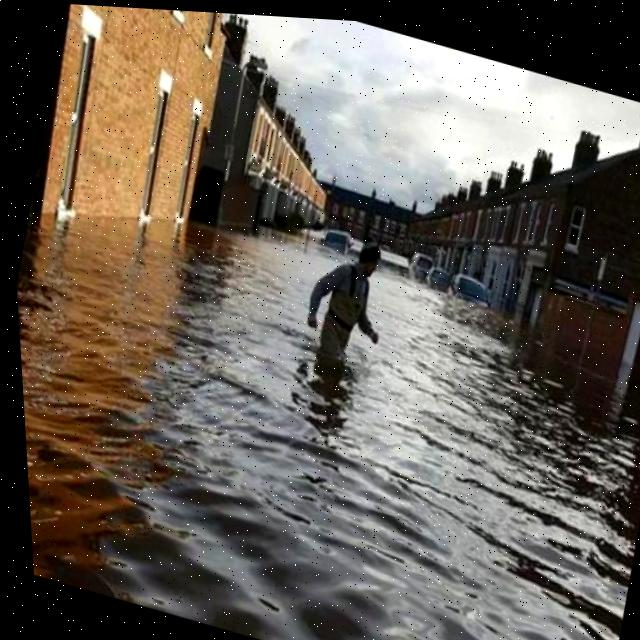civilian: (263, 196, 440, 413)
